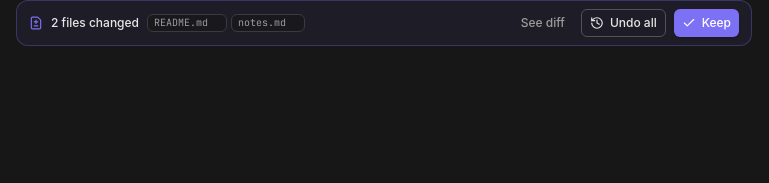
it: a file chip expands its diff inline, switches to another file, and collapses
Click the button "README.md": [181, 23] box [154,16,208,30]
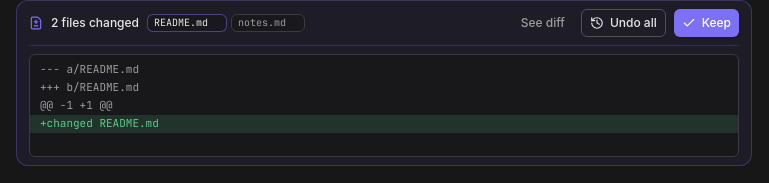
Expected: the button "README.md" is expanded, [154,16,208,30]
Expected: the text "+changed README.md" is shown, [30,115,738,132]
Click the button "notes.md": [262, 23] box [238,16,286,30]
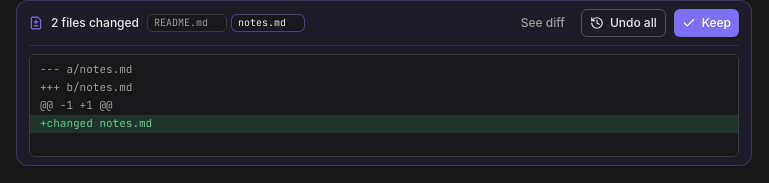
Expected: the button "README.md" is collapsed, [154,16,208,30]
Expected: the button "notes.md" is expanded
Expected: the text "+changed notes.md" is shown, [30,115,738,132]
Click the button "notes.md": [262, 23] box [238,16,286,30]
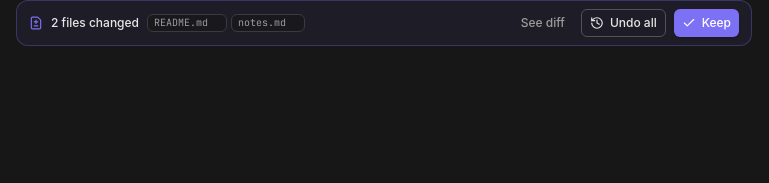
Expected: the button "notes.md" is collapsed, [238,16,286,30]
